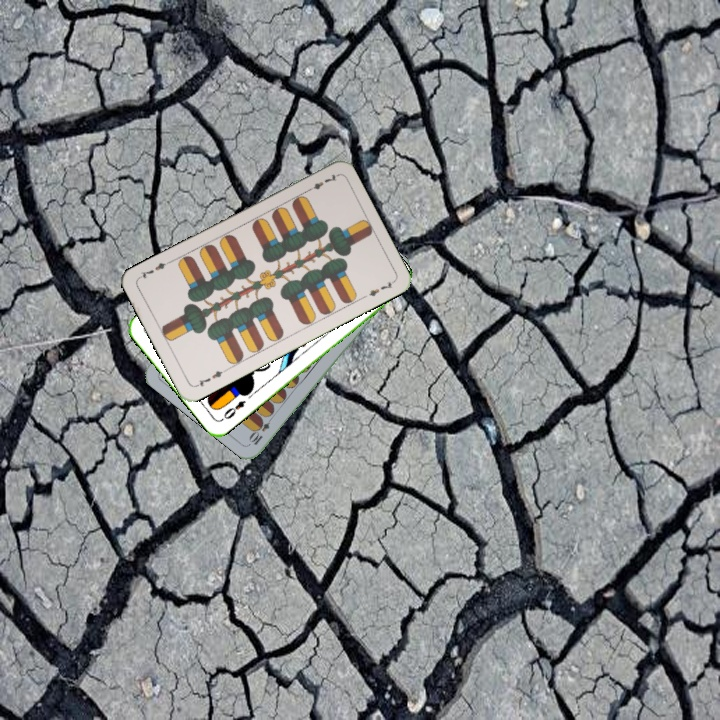E10: (246, 411, 276, 448)
E7: (302, 170, 340, 195), (192, 365, 229, 390)
EO: (217, 396, 248, 423)
